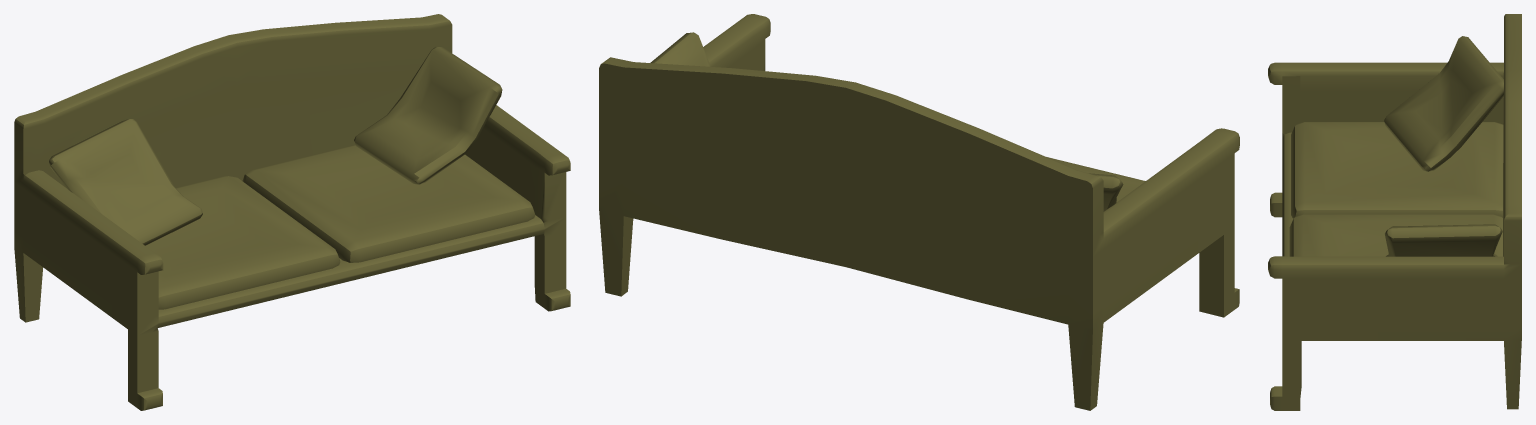
File: FBX_Sofa_02.fbx
3 renders of one model, left to right at view 1: azimuth 30°, elevation 25°; view 2: azimuth 150°, elevation 25°; view 3: azimuth 270°, elevation 25°, orthographic. The views are drawn at different scales.
Visible parts, largest first — view 1: polySurface64; view 2: polySurface64; view 3: polySurface64.
Part boxes in pixels (bbox=[...]): polySurface64: bbox=[14, 14, 570, 410]; polySurface64: bbox=[599, 14, 1239, 410]; polySurface64: bbox=[1268, 14, 1521, 410].
Bounding box in the file's own units: 1.81 × 0.9305 × 0.9528.
